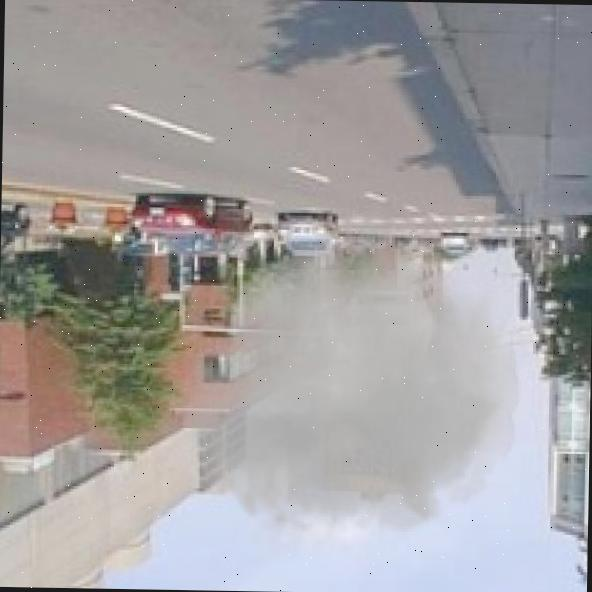smoke: (152, 191, 533, 571)
